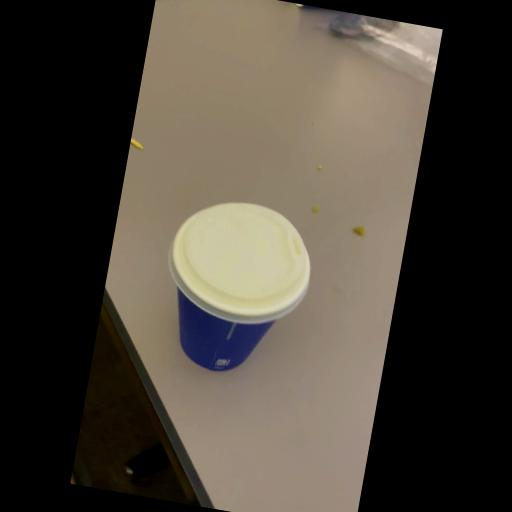lp_paper_cup: (151, 193, 319, 385)
